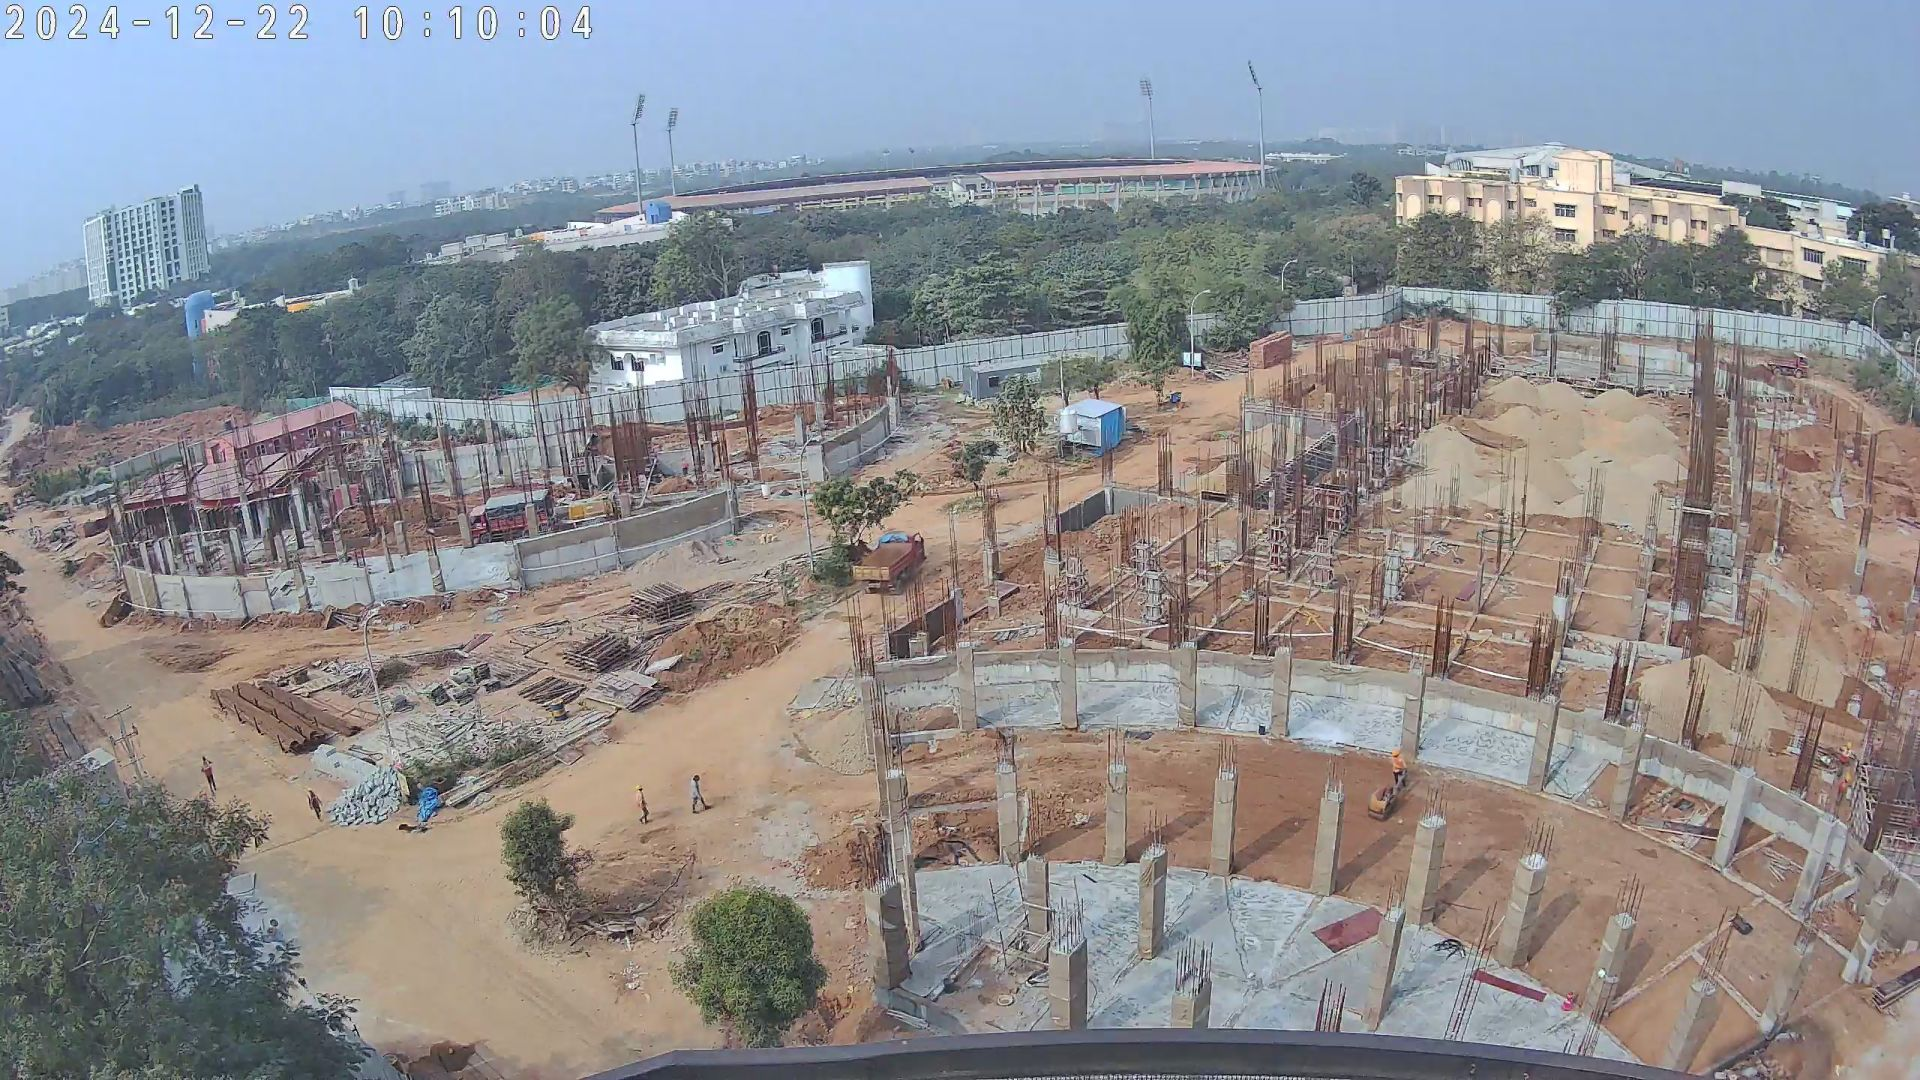truck: (853, 533, 927, 597), (464, 491, 556, 541), (1763, 350, 1814, 384)
worker: (1386, 751, 1410, 801), (686, 771, 711, 818), (633, 781, 653, 830), (199, 756, 221, 800), (1830, 764, 1850, 807), (304, 787, 324, 826), (1837, 740, 1853, 778), (678, 455, 691, 478)
